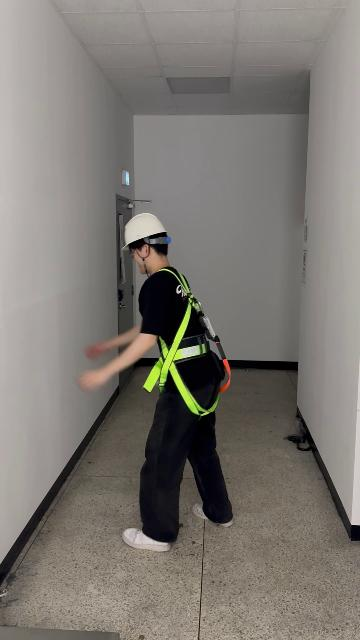helmet_worn: (119, 211, 169, 251)
shoe_not_worn: (122, 526, 172, 551), (192, 502, 233, 526)
vest_worn: (144, 274, 222, 412)
